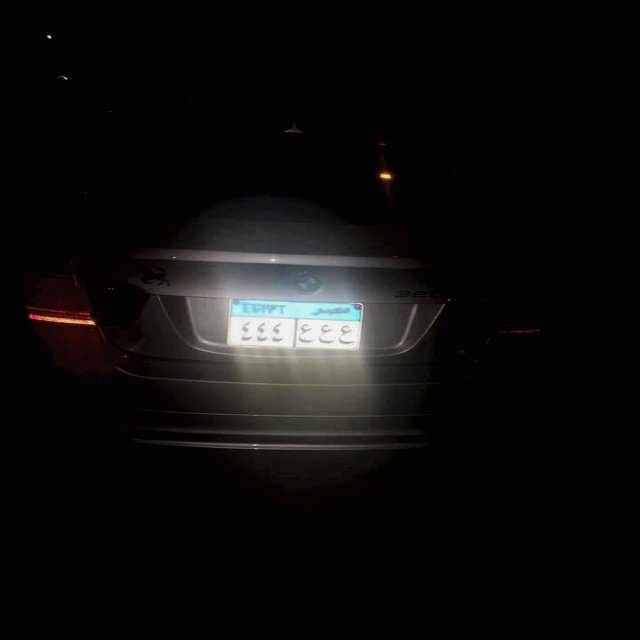License Plate: (225, 297, 364, 352)
